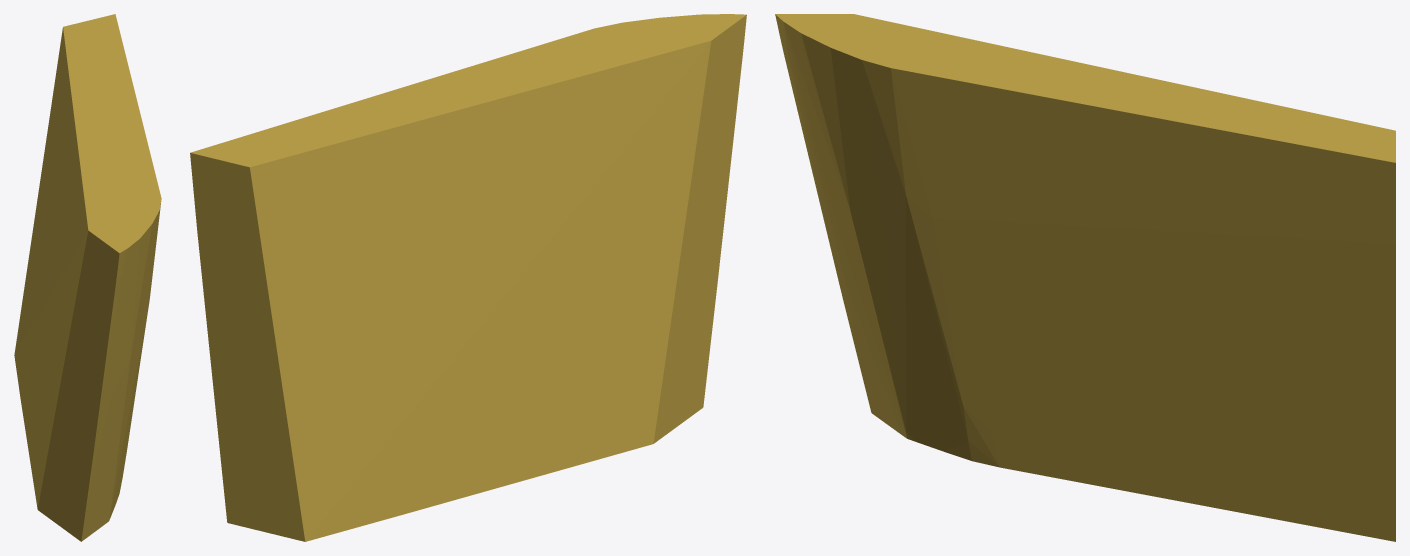
File: right-shoulder-pitch-0_part_100.obj
3 views of the same model, side by side, from view 1: azimuth 30°, elevation 25°; view 2: azimuth 150°, elevation 25°; view 3: azimuth 270°, elevation 25° (orthographic). The views are drawn at different scales.
Bounding box in the file's own units: 0.0138 × 0.0172 × 0.0242.
